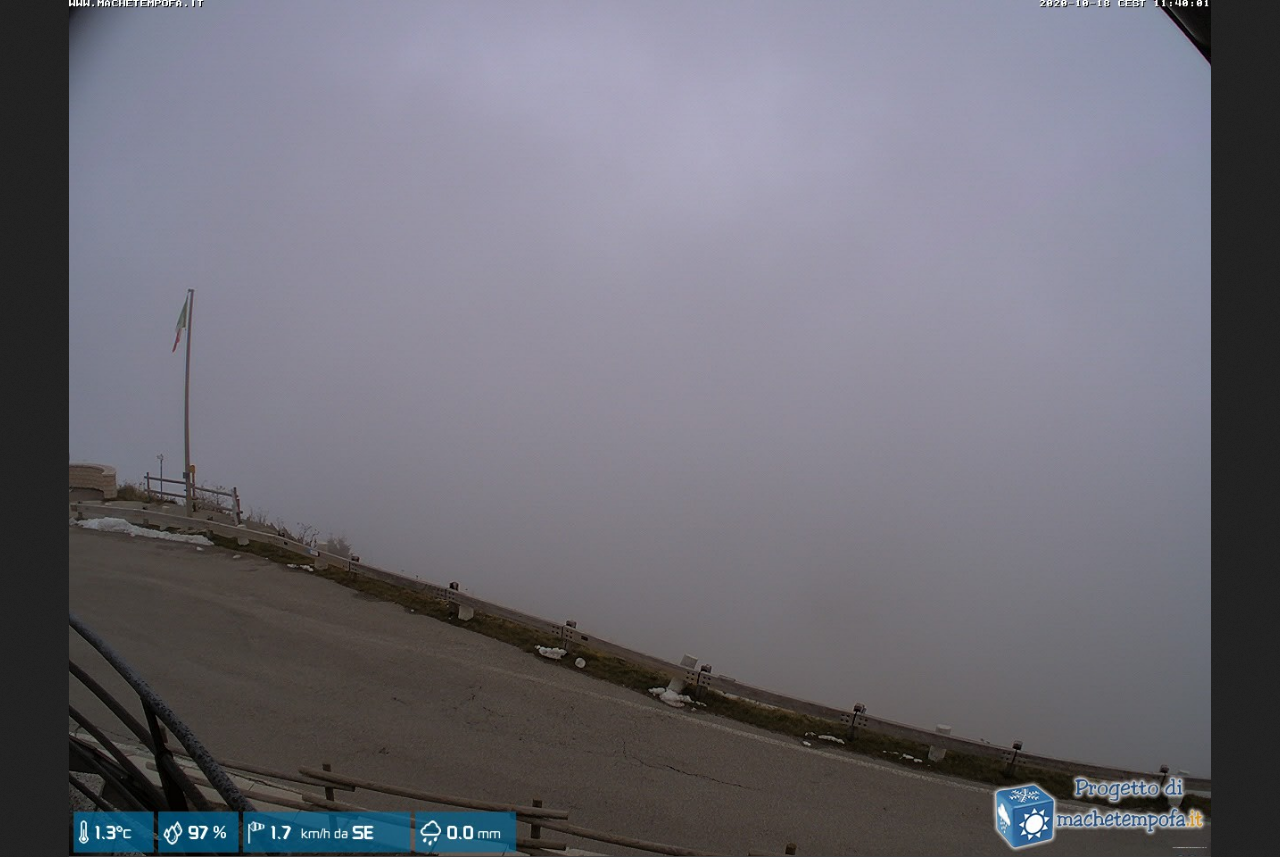no: (171, 293, 192, 355)
